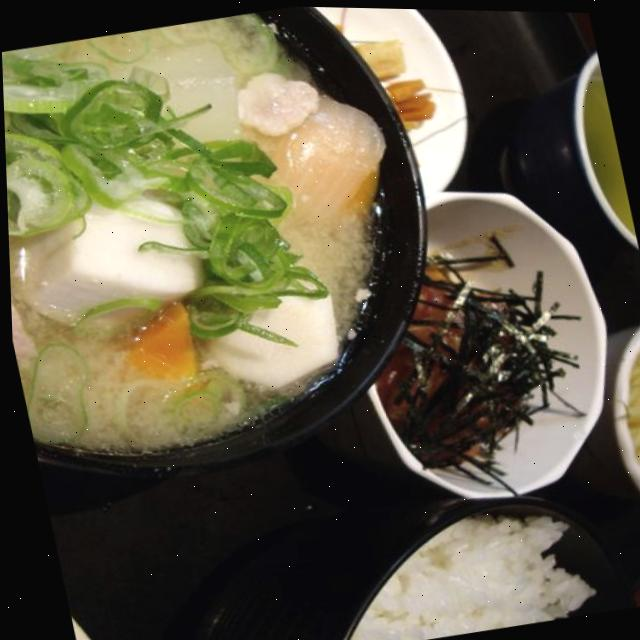米饭主食: (290, 474, 640, 640)
